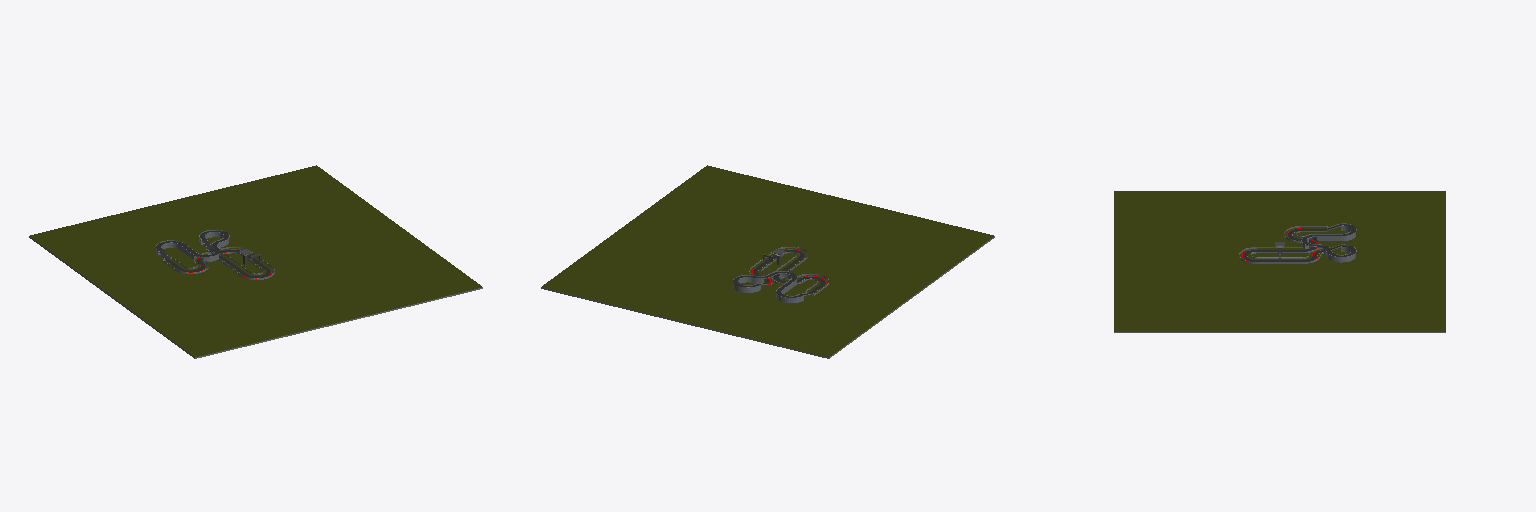
The model's file is track.obj.
3 views of the same model, side by side, from view 1: azimuth 30°, elevation 25°; view 2: azimuth 150°, elevation 25°; view 3: azimuth 270°, elevation 25° (orthographic).
Visible parts, largest first — view 1: Solid1; view 2: Solid1; view 3: Solid1.
Part boxes in pixels (x1,y1,x2,y2): Solid1: (29, 165, 482, 358); Solid1: (541, 165, 994, 358); Solid1: (1114, 191, 1445, 332).
Size of the model in its own units: 200 by 9.25 by 200.